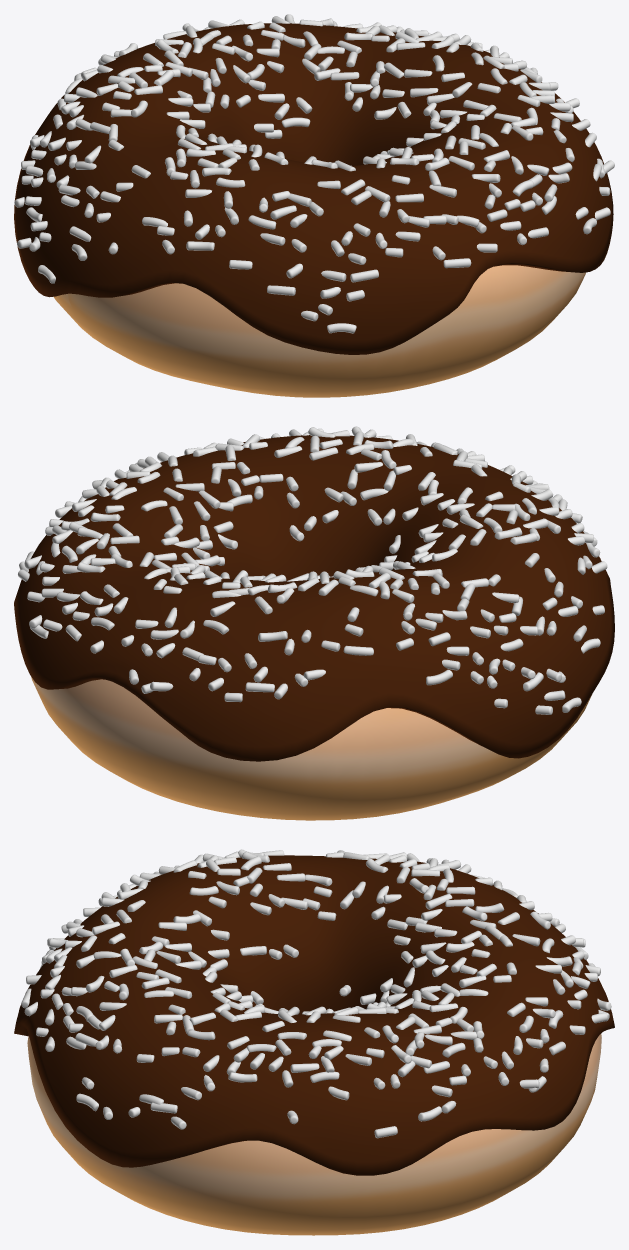
The model's file is Chocolate.fbx.
The picture shows the model from 3 angles, top to bottom: view 1: azimuth 30°, elevation 25°; view 2: azimuth 150°, elevation 25°; view 3: azimuth 270°, elevation 25°; orthographic projection.
Parts seen in each view (by area): view 1: Icing, Donut; view 2: Icing, Donut; view 3: Icing, Donut.
Boxes of the visible parts, x1,y1,x2,y2 form: Icing: [14, 14, 614, 354]; Donut: [53, 265, 586, 397]; Icing: [14, 426, 614, 761]; Donut: [31, 677, 591, 820]; Icing: [14, 849, 614, 1175]; Donut: [27, 1034, 601, 1235].
Size of the model in its own units: 40.2 by 16.48 by 39.97.
3 materials, 1 textured.
